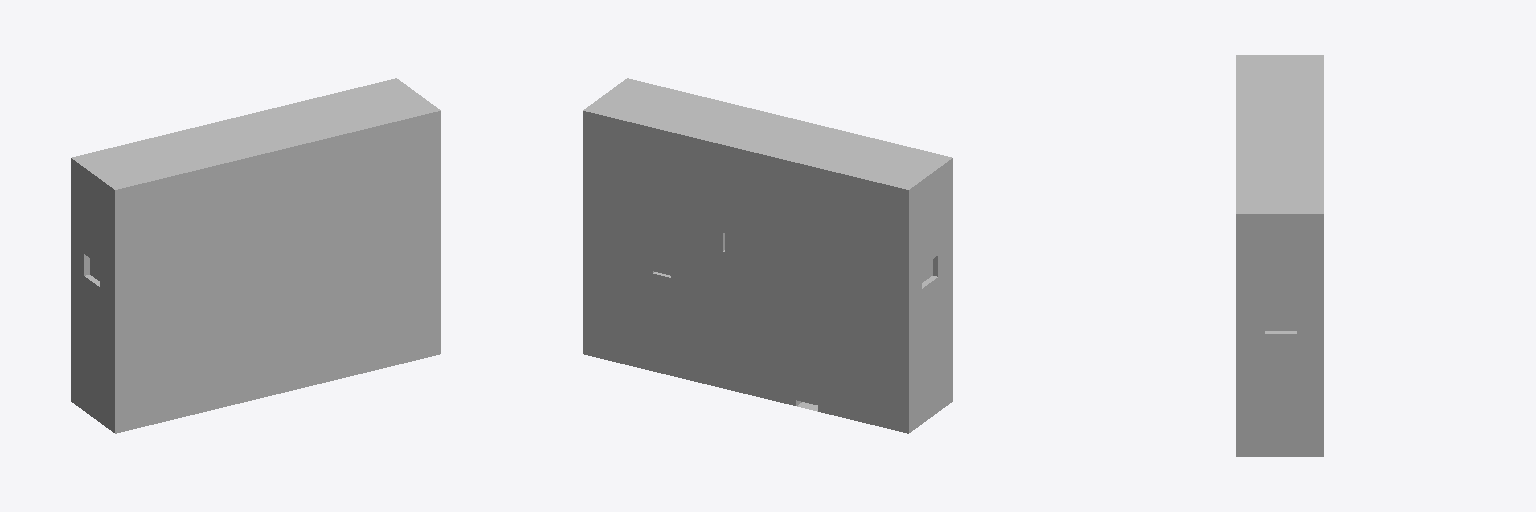
Rendered from simple.obj.
3 renders of one model, left to right at view 1: azimuth 30°, elevation 25°; view 2: azimuth 150°, elevation 25°; view 3: azimuth 270°, elevation 25°, orthographic.
Parts seen in each view (by area): view 1: Group_IfcProject_54_F101E8C7-3EE2-453C-ACEC-BBEE2972B857_IfcSite; view 2: Group_IfcProject_54_F101E8C7-3EE2-453C-ACEC-BBEE2972B857_IfcSite; view 3: Group_IfcProject_54_F101E8C7-3EE2-453C-ACEC-BBEE2972B857_IfcSite.
Boxes of the visible parts, x1=… form: Group_IfcProject_54_F101E8C7-3EE2-453C-ACEC-BBEE2972B857_IfcSite: x1=71, y1=78, x2=440, y2=433; Group_IfcProject_54_F101E8C7-3EE2-453C-ACEC-BBEE2972B857_IfcSite: x1=583, y1=78, x2=952, y2=433; Group_IfcProject_54_F101E8C7-3EE2-453C-ACEC-BBEE2972B857_IfcSite: x1=1236, y1=55, x2=1323, y2=456.
Bounding box in the file's own units: 14 × 10 × 3.3.